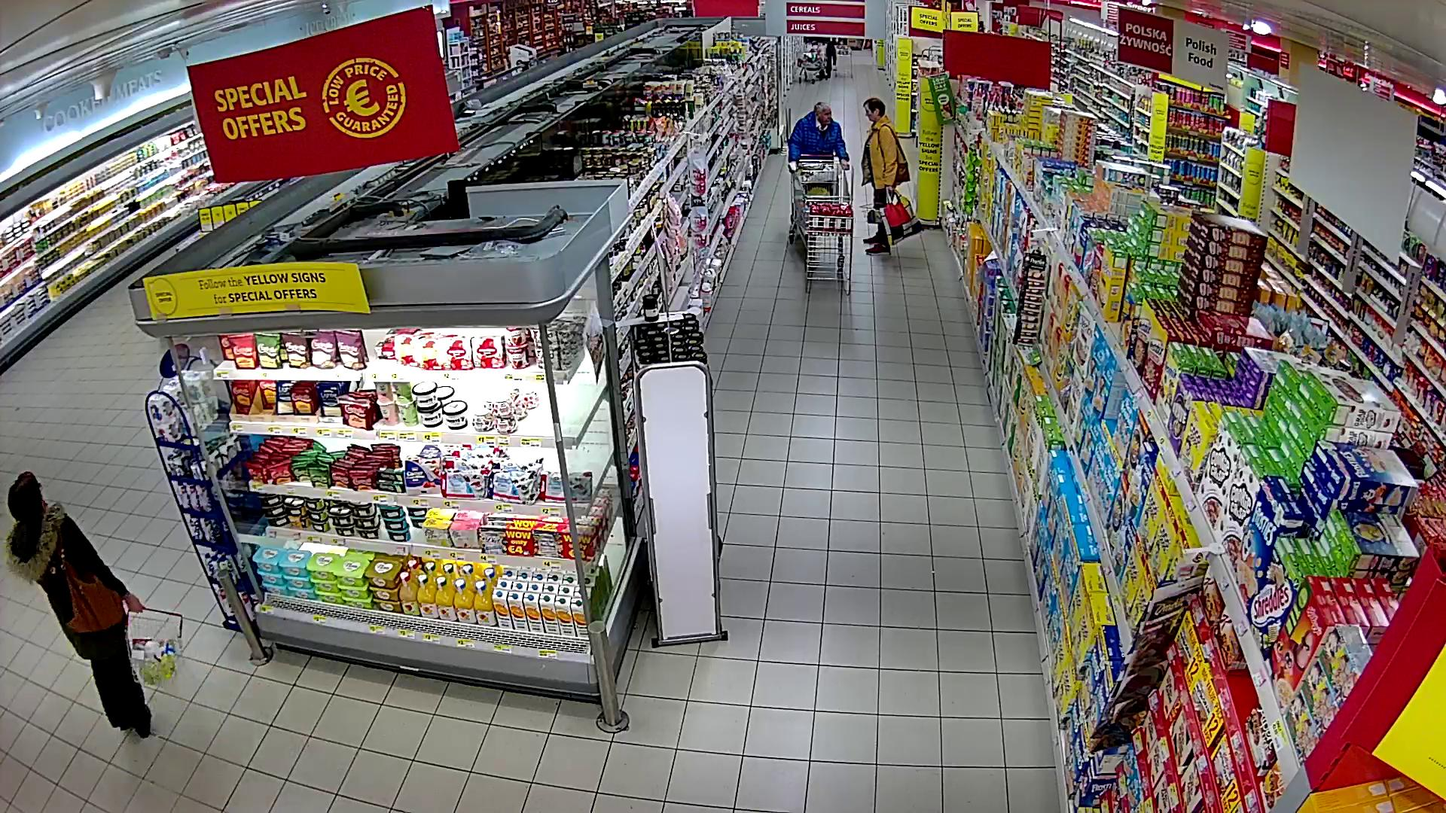backpack-or-handbag: (60, 574, 132, 661), (883, 159, 910, 184)
filled-basket: (125, 602, 183, 685)
filled-shopping-bags: (881, 191, 924, 245)
filled-trolly: (788, 154, 854, 251)
person: (5, 472, 152, 743), (862, 98, 906, 255), (787, 102, 849, 167)
person-with-backpack-handbag-and-shopping-bag-s-: (862, 97, 924, 255)
person-with-basket-trolly-and-backpack-handbag: (4, 471, 183, 742)
person-with-filled-basket-trolly: (787, 101, 853, 251)
